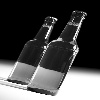beer: (30, 11, 86, 96)
